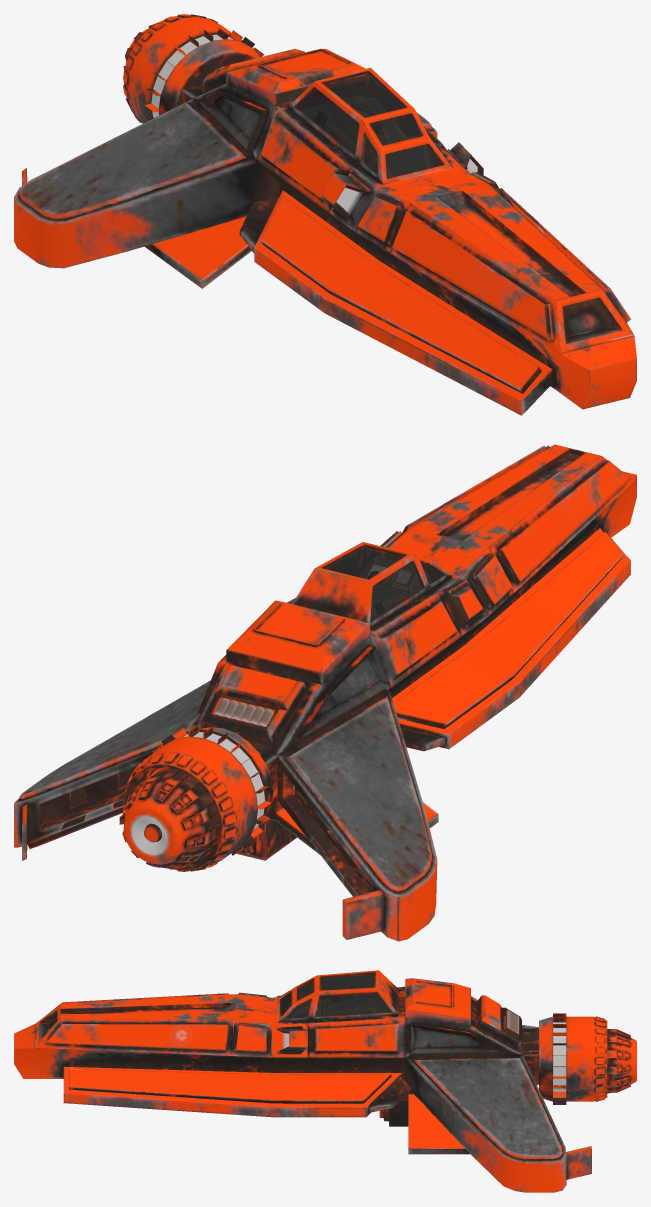
File: rusty-spaceship.glb
3 views of the same model, one above another, from view 1: azimuth 30°, elevation 25°; view 2: azimuth 150°, elevation 25°; view 3: azimuth 270°, elevation 25° (orthographic). The views are drawn at different scales.
Visible parts, largest first — view 1: Cube.001, Cube.001_RPanel.001, Cylinder.002, Cube.001_RPanel.003_RExtr.001, Cube.005, Cube.001_RPanel.003_RExtr, Cube.003, Cube.001_RPanel.003; view 2: Cube.001, Cube.001_RPanel.001, Cylinder.002, Cylinder.003, Cube.001_RPanel.003_RExtr.001, Cube.003, Cube.005, Cube.002, Cylinder.004, Cube.001_RPanel.003_RExtr; view 3: Cube.001, Cube.001_RPanel.003, Cylinder.002, Cube.001_RPanel.003_RExtr, Cylinder.003, Cube.005, Cube.003, Cube.002, Cube.001_RPanel.003_RExtr.001.
Part boxes in pixels (x1=…): Cube.001: x1=14, y1=49, x2=636, y2=415; Cube.001_RPanel.001: x1=193, y1=83, x2=559, y2=352; Cylinder.002: x1=123, y1=14, x2=264, y2=123; Cube.001_RPanel.003_RExtr.001: x1=331, y1=173, x2=553, y2=340; Cube.005: x1=302, y1=95, x2=433, y2=177; Cube.001_RPanel.003_RExtr: x1=447, y1=149, x2=631, y2=322; Cube.003: x1=202, y1=48, x2=304, y2=92; Cube.001_RPanel.003: x1=424, y1=126, x2=633, y2=333; Cube.001: x1=14, y1=444, x2=636, y2=941; Cube.001_RPanel.001: x1=278, y1=456, x2=633, y2=755; Cylinder.002: x1=122, y1=725, x2=272, y2=871; Cylinder.003: x1=121, y1=767, x2=220, y2=868; Cube.001_RPanel.003_RExtr.001: x1=447, y1=460, x2=630, y2=628; Cube.003: x1=202, y1=664, x2=307, y2=745; Cube.005: x1=360, y1=556, x2=430, y2=618; Cube.002: x1=236, y1=819, x2=296, y2=860; Cylinder.004: x1=214, y1=698, x2=273, y2=726; Cube.001_RPanel.003_RExtr: x1=380, y1=445, x2=549, y2=547; Cube.001: x1=14, y1=970, x2=591, y2=1192; Cube.001_RPanel.003: x1=36, y1=1018, x2=522, y2=1057; Cylinder.002: x1=539, y1=1013, x2=607, y2=1104; Cube.001_RPanel.003_RExtr: x1=45, y1=1023, x2=302, y2=1054; Cylinder.003: x1=607, y1=1029, x2=636, y2=1093; Cube.005: x1=286, y1=991, x2=390, y2=1017; Cube.003: x1=476, y1=995, x2=521, y2=1048; Cube.002: x1=379, y1=1094, x2=408, y2=1126; Cube.001_RPanel.003_RExtr.001: x1=53, y1=992, x2=282, y2=1009.
Size of the model in its own units: 9.24 by 5.01 by 18.93.
Materials: 2 (2 with a texture image).
